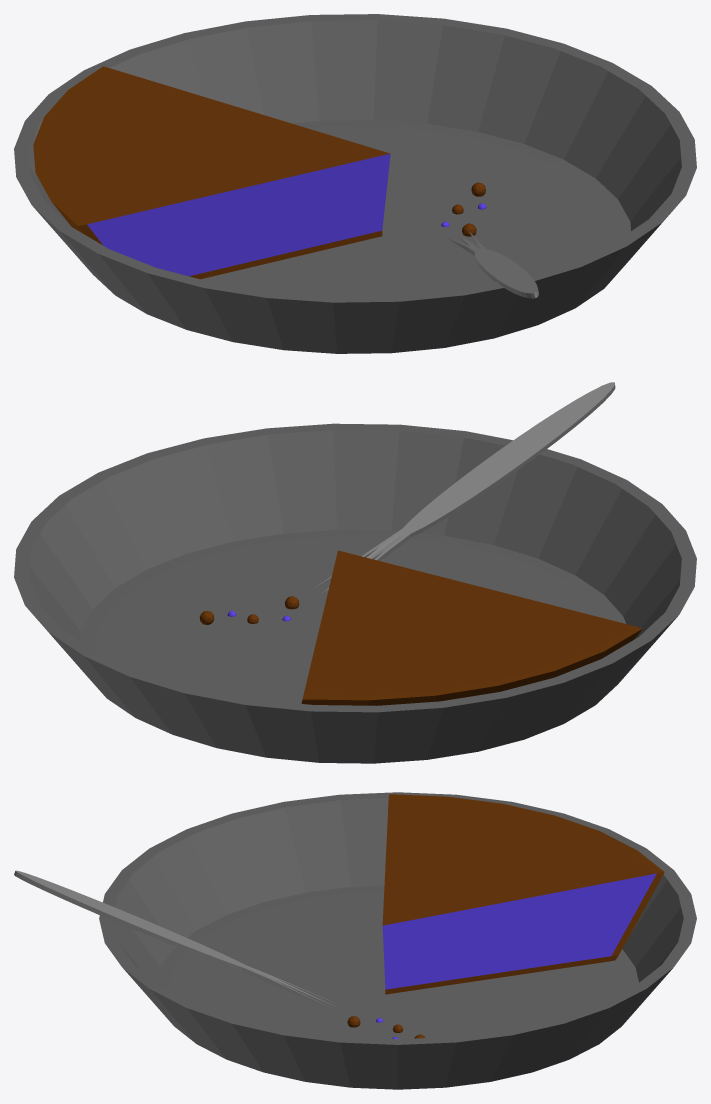
File: pie.fbx
3 renders of one model, top to bottom at view 1: azimuth 30°, elevation 25°; view 2: azimuth 150°, elevation 25°; view 3: azimuth 270°, elevation 25°, orthographic. The views are drawn at different scales.
Visible parts, largest first — view 1: Cylinder, Cylinder.001, Cylinder.002; view 2: Cylinder, Cylinder.001, Cylinder.002; view 3: Cylinder, Cylinder.001, Cylinder.002.
Part boxes in pixels (x1,y1,x2,y2): Cylinder: (14, 14, 696, 353); Cylinder.001: (33, 66, 390, 279); Cylinder.002: (447, 231, 538, 298); Cylinder: (14, 423, 696, 763); Cylinder.001: (301, 550, 642, 705); Cylinder.002: (311, 382, 615, 594); Cylinder: (99, 792, 696, 1089); Cylinder.001: (382, 794, 664, 994); Cylinder.002: (14, 870, 342, 1010).
Size of the model in its own units: 201 by 38.44 by 229.
